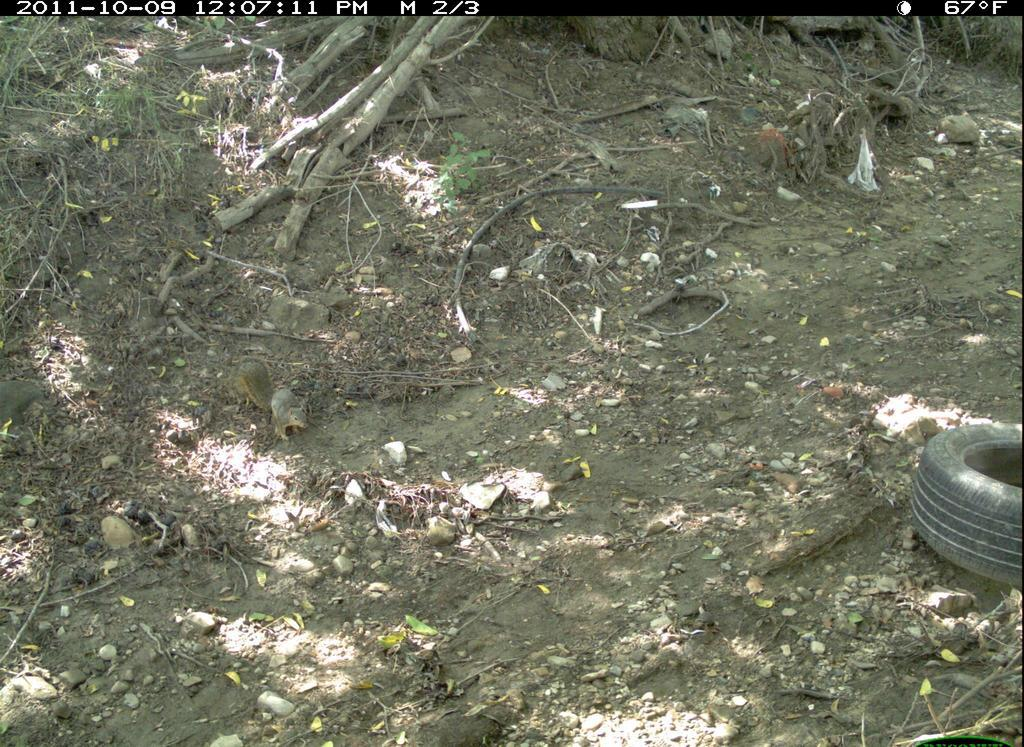squirrel: (226, 351, 327, 445)
